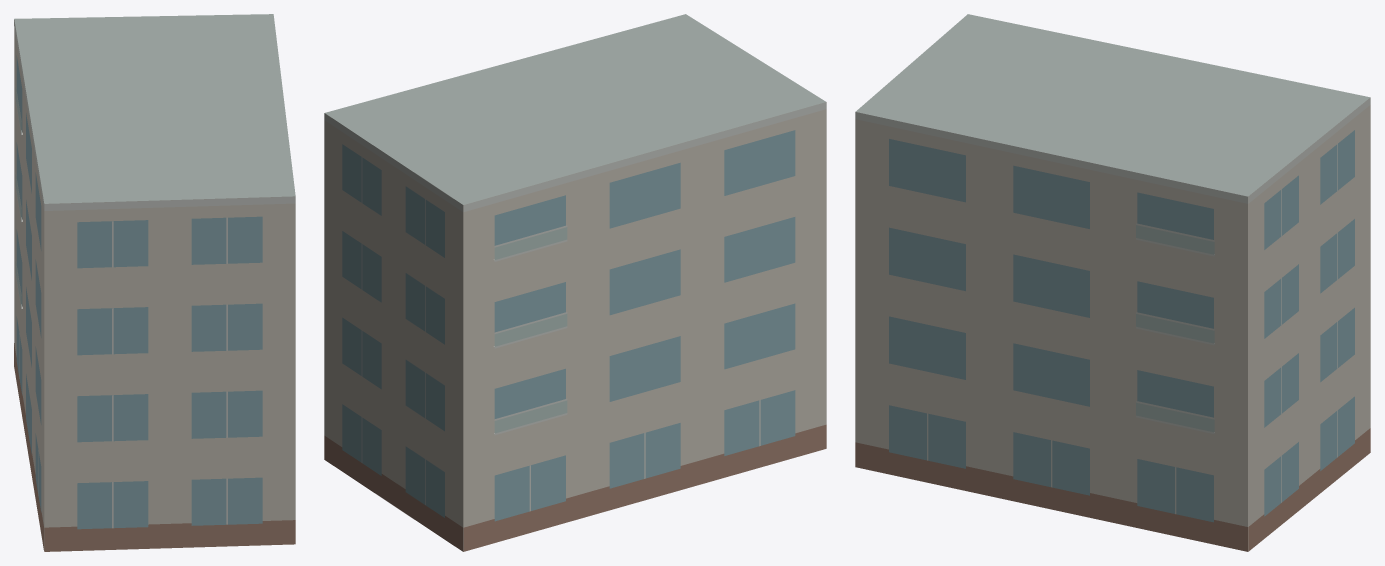
Rendered from survey-upis-32733074.glb.
3 renders of one model, left to right at view 1: azimuth 30°, elevation 25°; view 2: azimuth 150°, elevation 25°; view 3: azimuth 270°, elevation 25°, orthographic. The views are drawn at different scales.
Visible parts, largest first — view 1: survey-upis-32733074.tmp; view 2: survey-upis-32733074.tmp; view 3: survey-upis-32733074.tmp.
Part boxes in pixels (bbox=[...]): survey-upis-32733074.tmp: bbox=[14, 14, 295, 551]; survey-upis-32733074.tmp: bbox=[324, 14, 826, 551]; survey-upis-32733074.tmp: bbox=[855, 14, 1370, 551].
Bounding box in the file's own units: 13.07 × 11.85 × 15.59.
